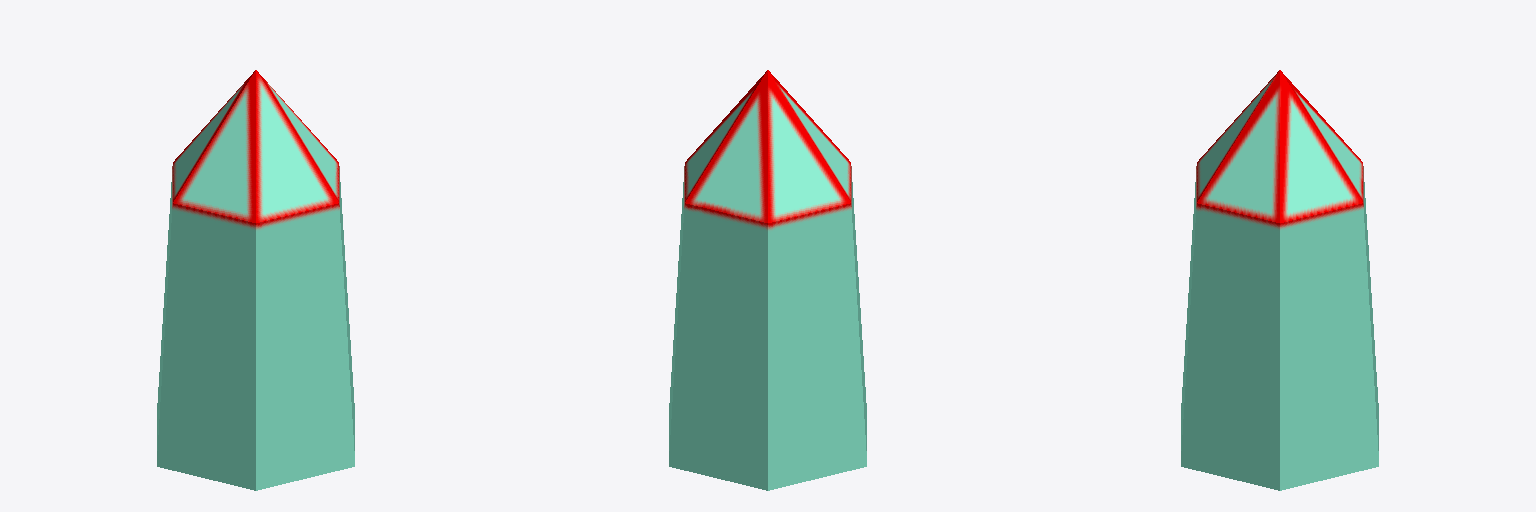
3 views of the same model, side by side, from view 1: azimuth 30°, elevation 25°; view 2: azimuth 150°, elevation 25°; view 3: azimuth 270°, elevation 25° (orthographic).
Parts seen in each view (by area): view 1: missile_Mesh Missile_grp; view 2: missile_Mesh Missile_grp; view 3: missile_Mesh Missile_grp.
Boxes of the visible parts, box(x1,y1,x2,y2) form: missile_Mesh Missile_grp: box(157, 70, 354, 490); missile_Mesh Missile_grp: box(669, 70, 866, 490); missile_Mesh Missile_grp: box(1181, 70, 1378, 490).
Size of the model in its own units: 2.44 by 4.37 by 2.11.
1 materials, 1 textured.